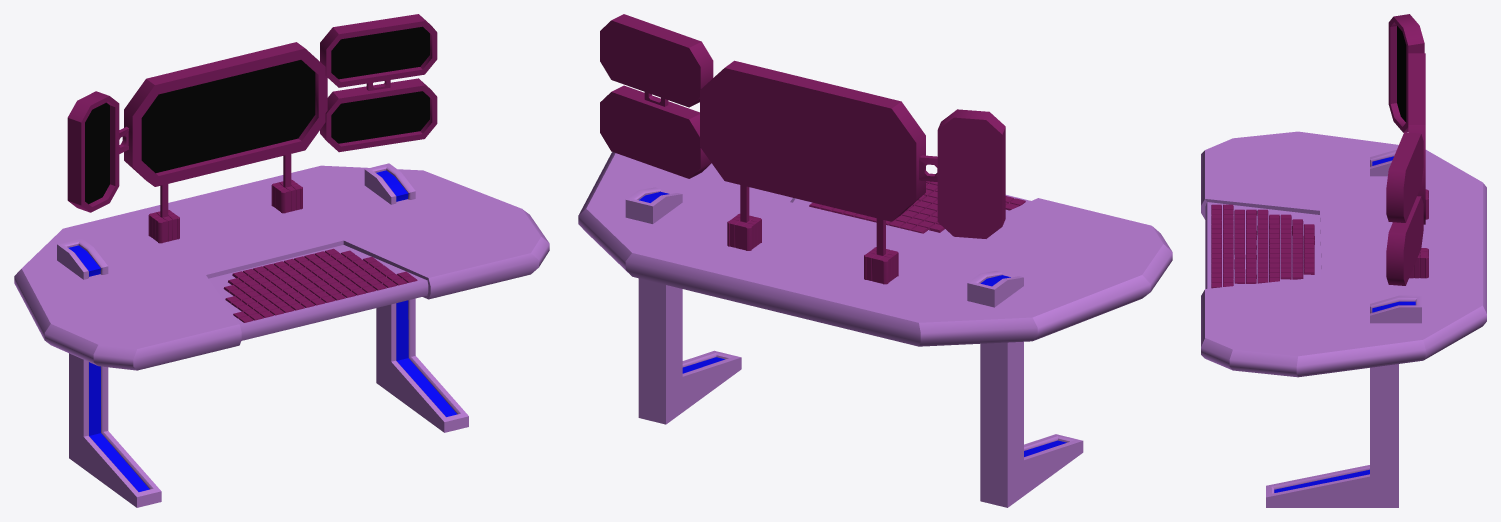
The model's file is deskComputer.glb.
The picture shows the model from 3 angles, left to right: view 1: azimuth 30°, elevation 25°; view 2: azimuth 150°, elevation 25°; view 3: azimuth 270°, elevation 25°; orthographic projection. The views are drawn at different scales.
Visible parts, largest first — view 1: deskComputer; view 2: deskComputer; view 3: deskComputer.
Part boxes in pixels (box(x1,y1,x2,y2)): deskComputer: box(14, 14, 549, 507); deskComputer: box(578, 14, 1172, 507); deskComputer: box(1201, 14, 1486, 507).
Size of the model in its own units: 2.05 by 1.43 by 1.07.
